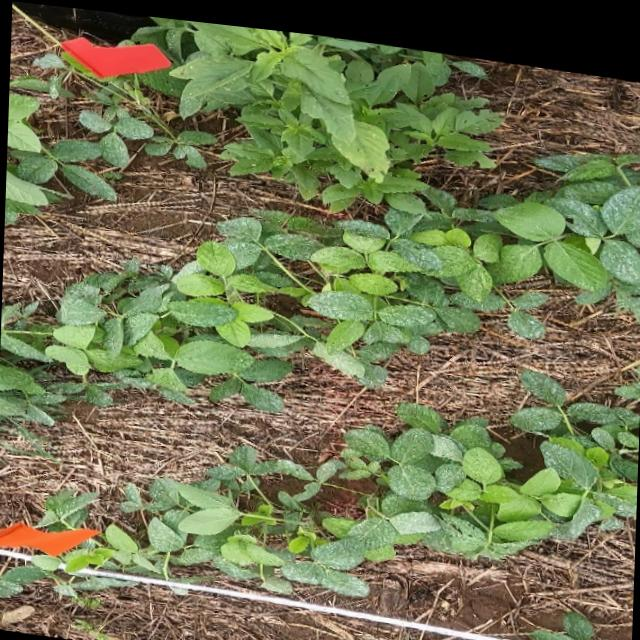caruru_weed: (146, 13, 499, 204)
soy_plant: (0, 140, 640, 430), (32, 359, 639, 588), (4, 92, 213, 222), (384, 466, 581, 543), (531, 598, 614, 640), (38, 488, 94, 528), (8, 77, 61, 95)
